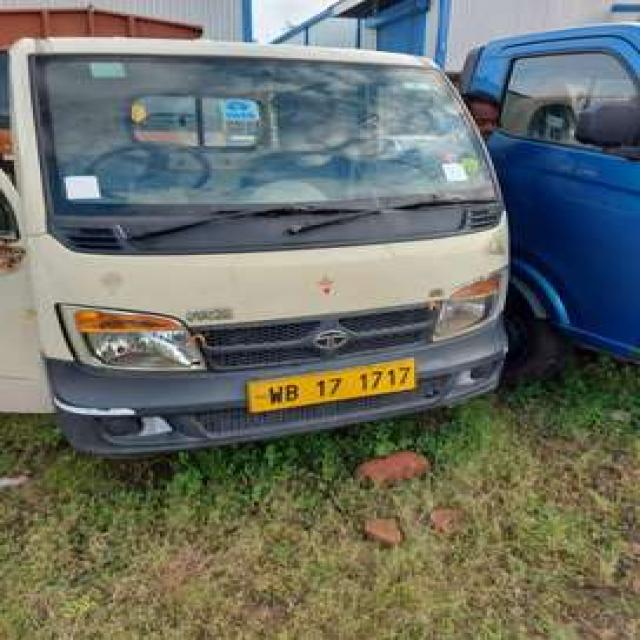Plate: (246, 355, 413, 413)
